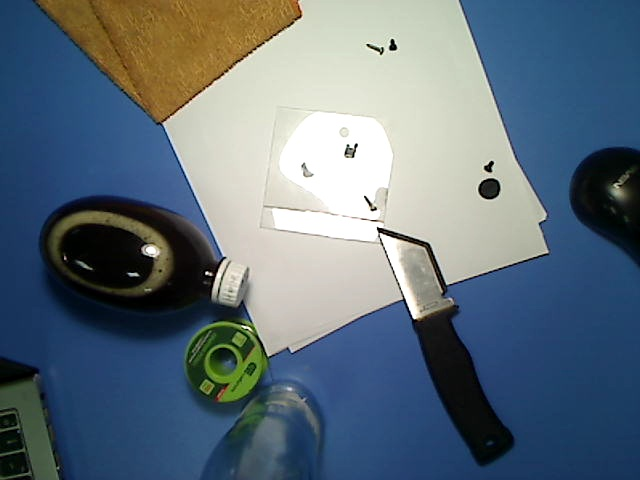plast_bottle: (36, 190, 255, 321)
